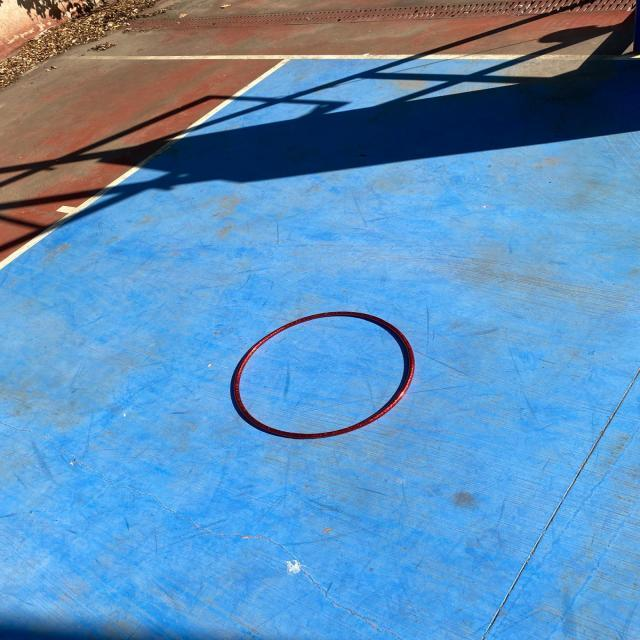Circle: (229, 310, 415, 440)
